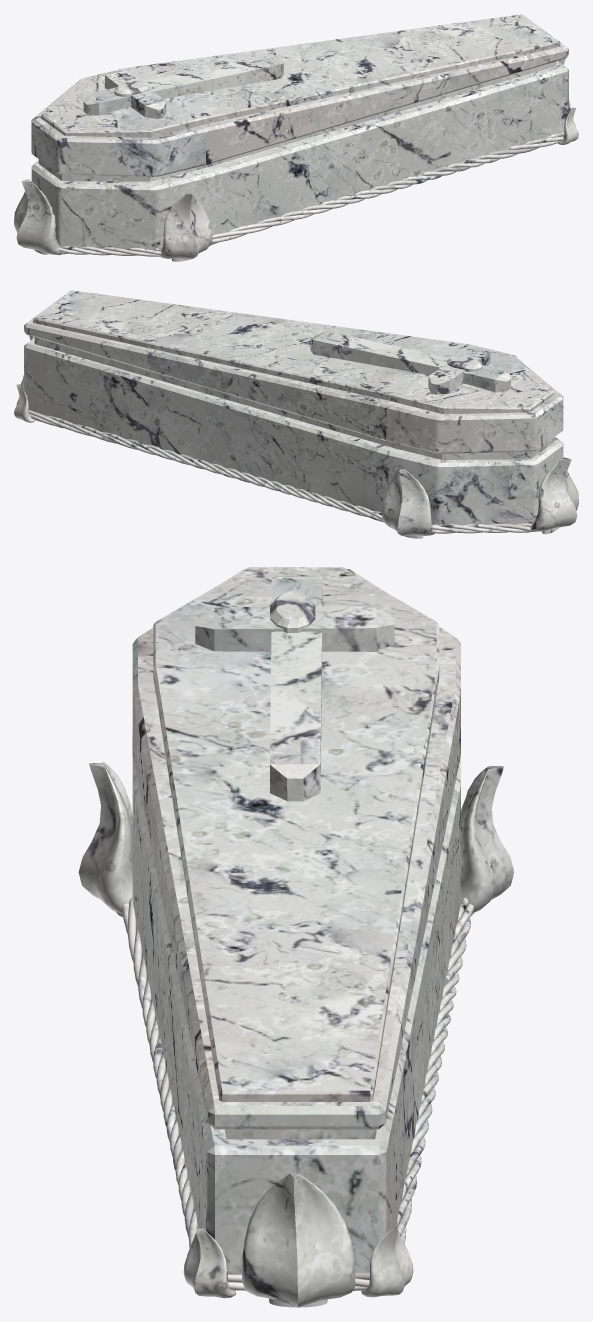
Rendered from coffin__material_0.obj.
3 renders of one model, top to bottom at view 1: azimuth 30°, elevation 25°; view 2: azimuth 150°, elevation 25°; view 3: azimuth 270°, elevation 25°, orthographic. The views are drawn at different scales.
Parts seen in each view (by area): view 1: Export_Object_3; view 2: Export_Object_3; view 3: Export_Object_3.
Part boxes in pixels (<box>): Export_Object_3: <box>14,14,578,261</box>; Export_Object_3: <box>14,290,578,538</box>; Export_Object_3: <box>78,567,514,1307</box>.
Size of the model in its own units: 54.78 by 13.75 by 18.67.
Materials: 1 (1 with a texture image).
